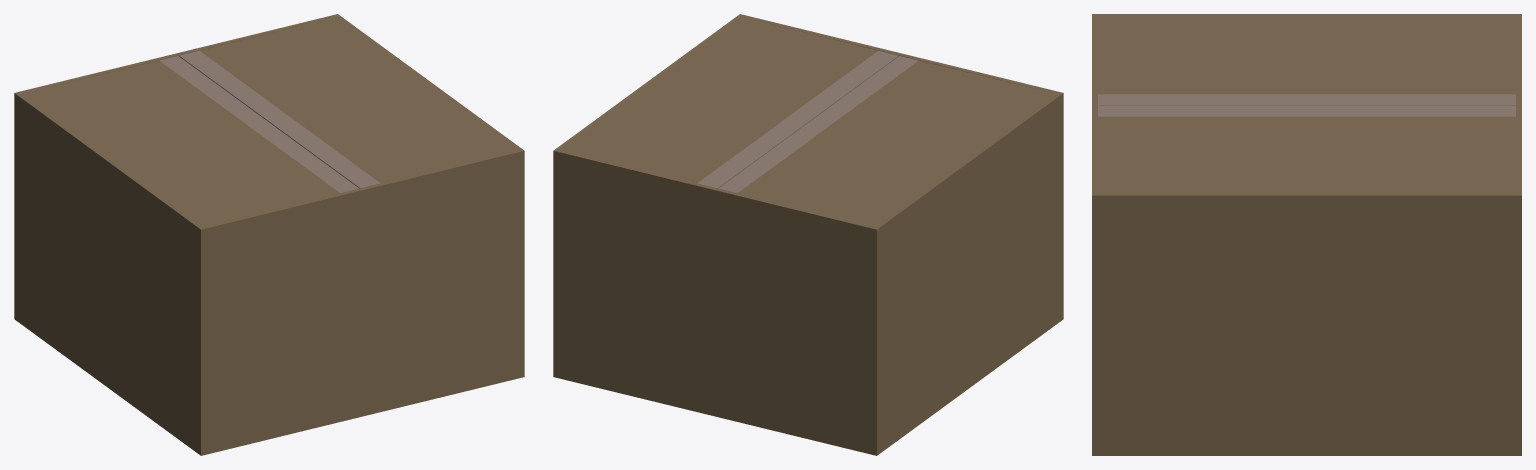
The model's file is Cardboard 1.glb.
3 views of the same model, side by side, from view 1: azimuth 30°, elevation 25°; view 2: azimuth 150°, elevation 25°; view 3: azimuth 270°, elevation 25° (orthographic). The views are drawn at different scales.
Parts seen in each view (by area): view 1: cardboard_genpon; view 2: cardboard_genpon; view 3: cardboard_genpon.
Part boxes in pixels (x1,y1,x2,y2): cardboard_genpon: [14, 14, 524, 455]; cardboard_genpon: [553, 14, 1063, 455]; cardboard_genpon: [1092, 14, 1521, 455].
Size of the model in its own units: 2 by 1.34 by 2.
